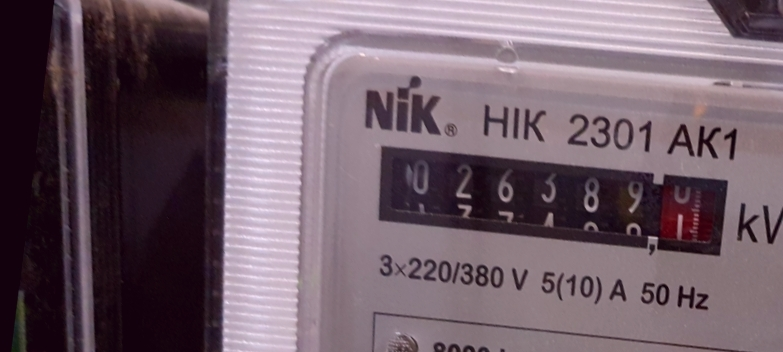0: (408, 155, 436, 197), (673, 183, 694, 205)
1: (673, 210, 689, 242)
2: (452, 160, 480, 201)
3: (540, 169, 561, 206)
6: (496, 164, 519, 205)
8: (581, 174, 606, 214)
9: (625, 178, 647, 214)
screen: (359, 124, 748, 275)
